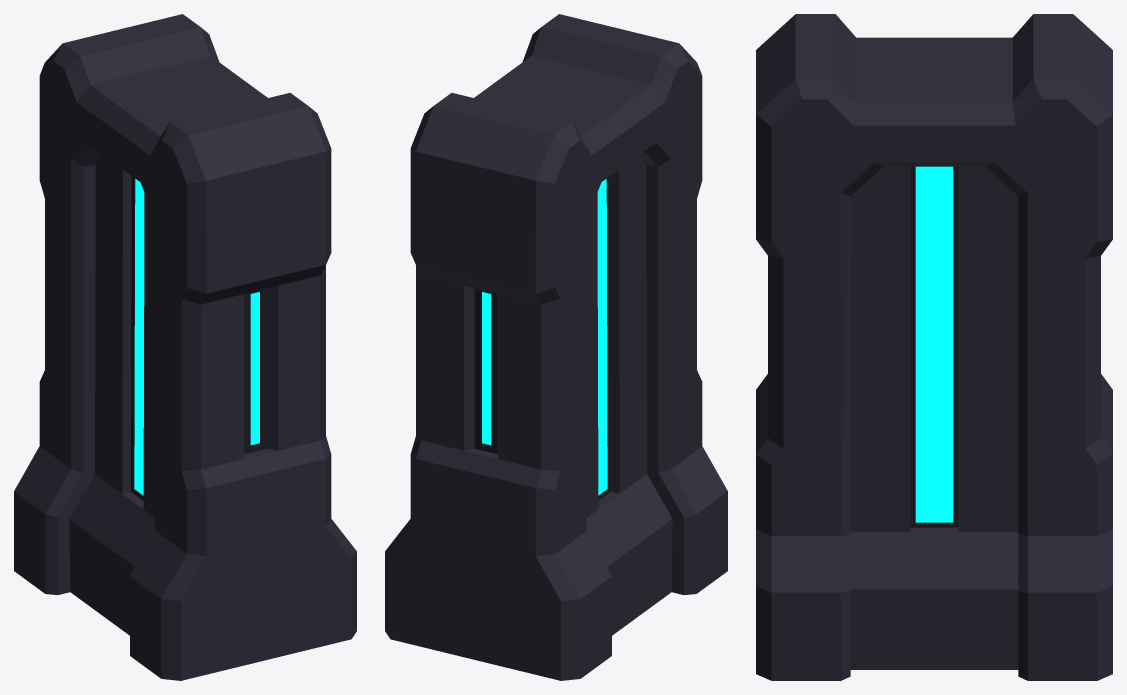
Rendered from SM_Path_Post.fbx.
3 views of the same model, side by side, from view 1: azimuth 30°, elevation 25°; view 2: azimuth 150°, elevation 25°; view 3: azimuth 270°, elevation 25° (orthographic). The views are drawn at different scales.
Visible parts, largest first — view 1: SM_Path_Post; view 2: SM_Path_Post; view 3: SM_Path_Post.
Part boxes in pixels (x1,y1,x2,y2): SM_Path_Post: [14, 14, 356, 680]; SM_Path_Post: [385, 14, 727, 680]; SM_Path_Post: [756, 14, 1112, 680].
Size of the model in its own units: 35 by 90 by 50.
